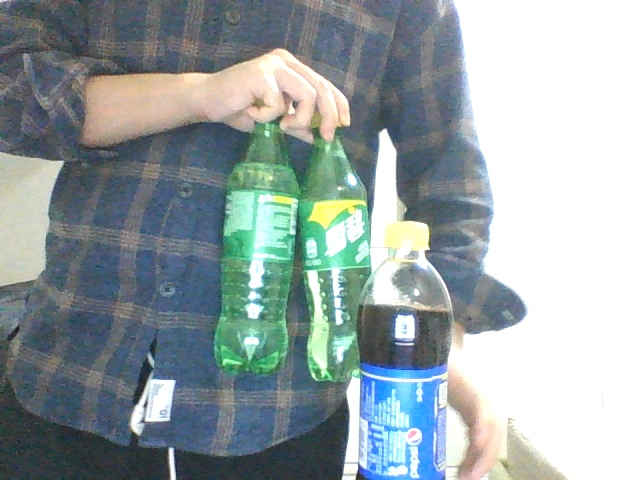Cola: (354, 222, 456, 476)
Sprite: (211, 110, 299, 374), (298, 112, 369, 379)
